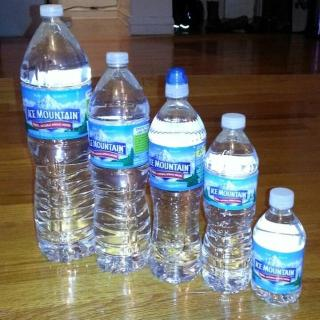Plastic-bottle: (17, 3, 105, 269), (85, 48, 152, 276), (146, 63, 208, 287), (201, 108, 261, 302), (249, 186, 305, 320)
